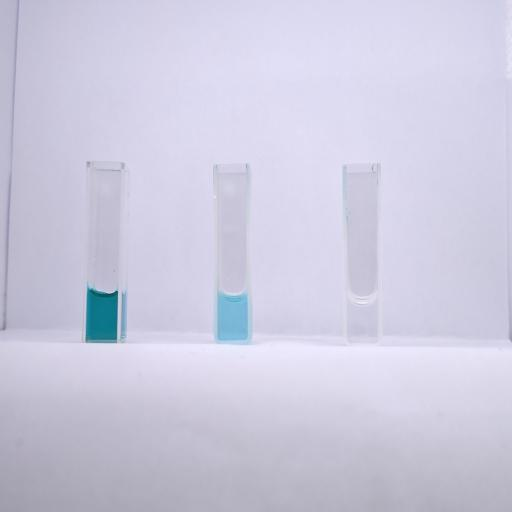cuvette: (80, 160, 127, 344), (340, 162, 384, 347), (211, 163, 253, 344)
liquid: (87, 289, 117, 339), (218, 291, 247, 340), (348, 295, 378, 342)
